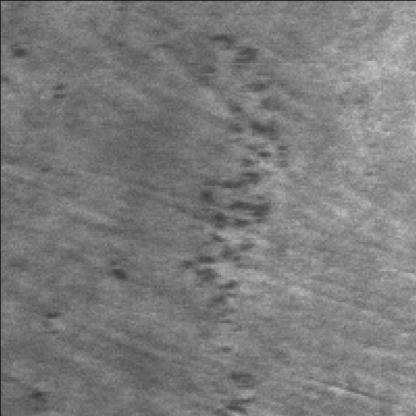rolled-in_scale: (162, 17, 289, 343)
